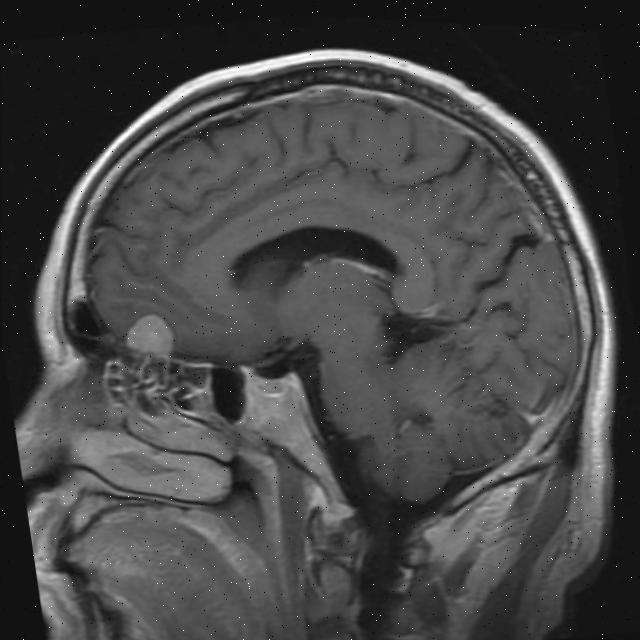Meningioma: (121, 309, 177, 364)
